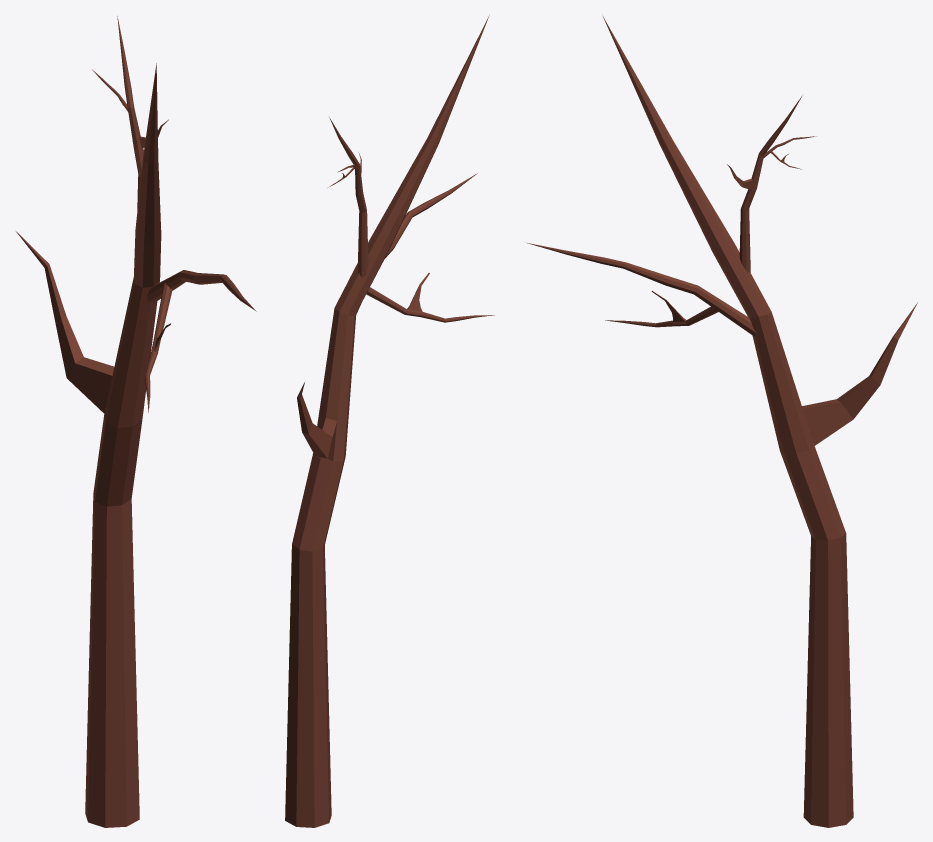
The model's file is SM_Branch.fbx.
3 views of the same model, side by side, from view 1: azimuth 30°, elevation 25°; view 2: azimuth 150°, elevation 25°; view 3: azimuth 270°, elevation 25° (orthographic). The views are drawn at different scales.
Visible parts, largest first — view 1: SM_Branch; view 2: SM_Branch; view 3: SM_Branch.
Part boxes in pixels (x1=…): SM_Branch: x1=16, y1=16, x2=256, y2=827; SM_Branch: x1=285, y1=15, x2=494, y2=827; SM_Branch: x1=526, y1=16, x2=917, y2=827.
Size of the model in its own units: 9.7 by 69.19 by 32.21.
